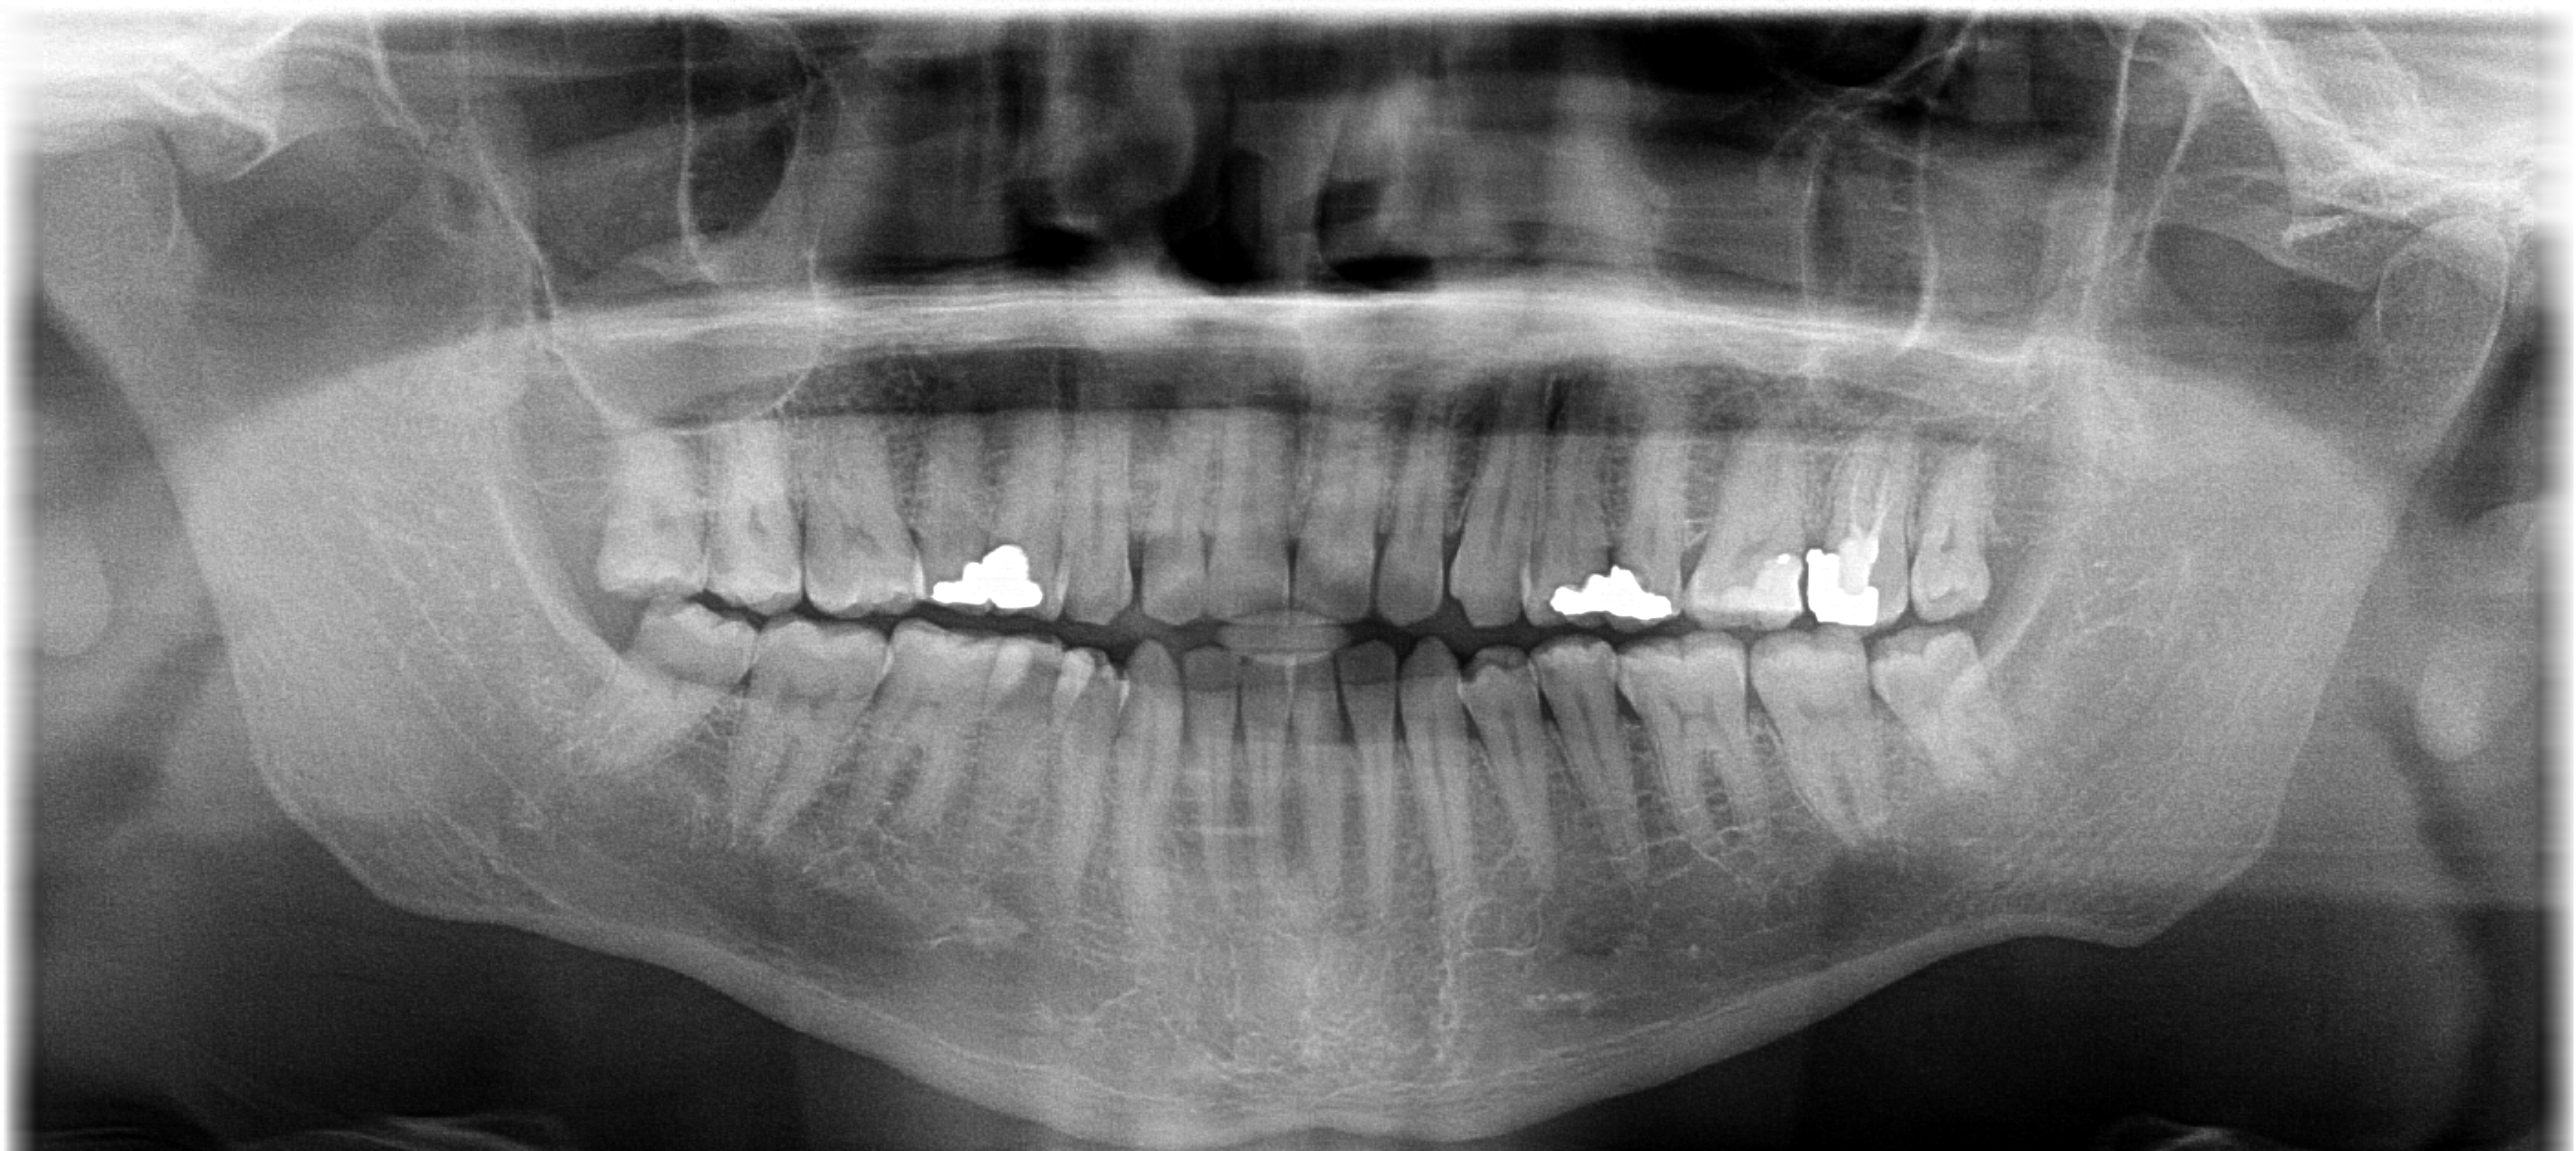apinamiento: (950, 643, 1183, 730)
cordal: (547, 575, 772, 801), (1848, 424, 2073, 649), (1837, 608, 2060, 835), (573, 390, 726, 610)
